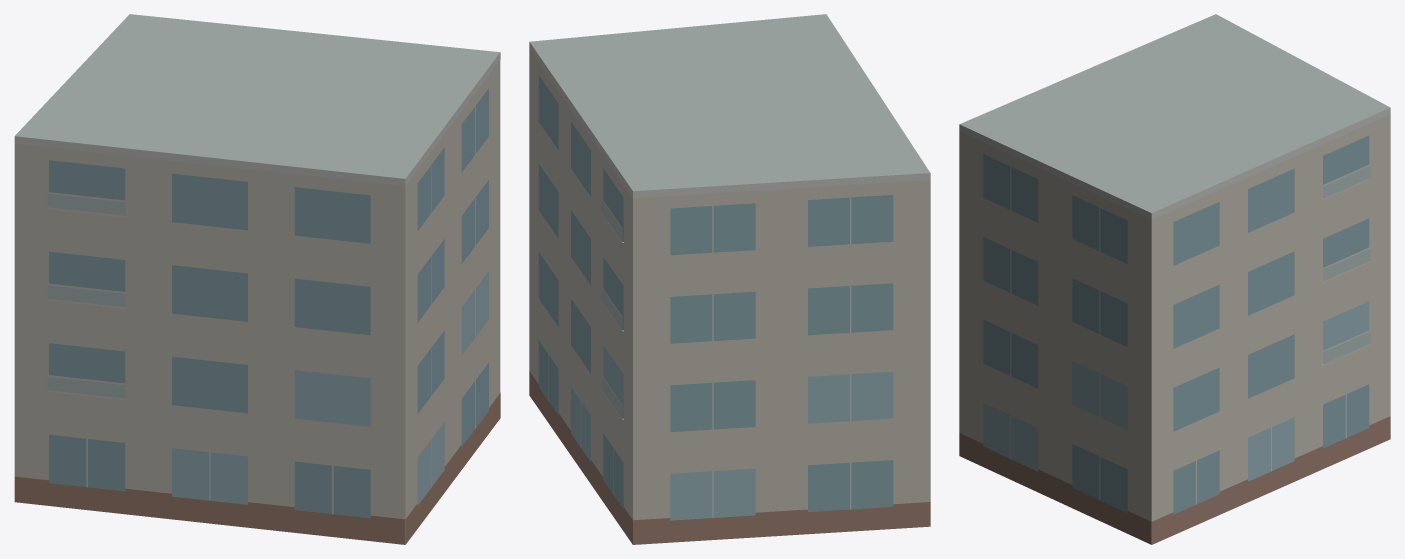
File: survey-upis-32999387.glb
3 views of the same model, side by side, from view 1: azimuth 30°, elevation 25°; view 2: azimuth 150°, elevation 25°; view 3: azimuth 270°, elevation 25° (orthographic). The views are drawn at different scales.
Parts seen in each view (by area): view 1: survey-upis-32999387.tmp; view 2: survey-upis-32999387.tmp; view 3: survey-upis-32999387.tmp.
Boxes of the visible parts, x1,y1,x2,y2 form: survey-upis-32999387.tmp: (14,14,500,544); survey-upis-32999387.tmp: (529,14,930,544); survey-upis-32999387.tmp: (959,14,1390,544).
Size of the model in its own units: 15.72 by 12.2 by 14.38.
